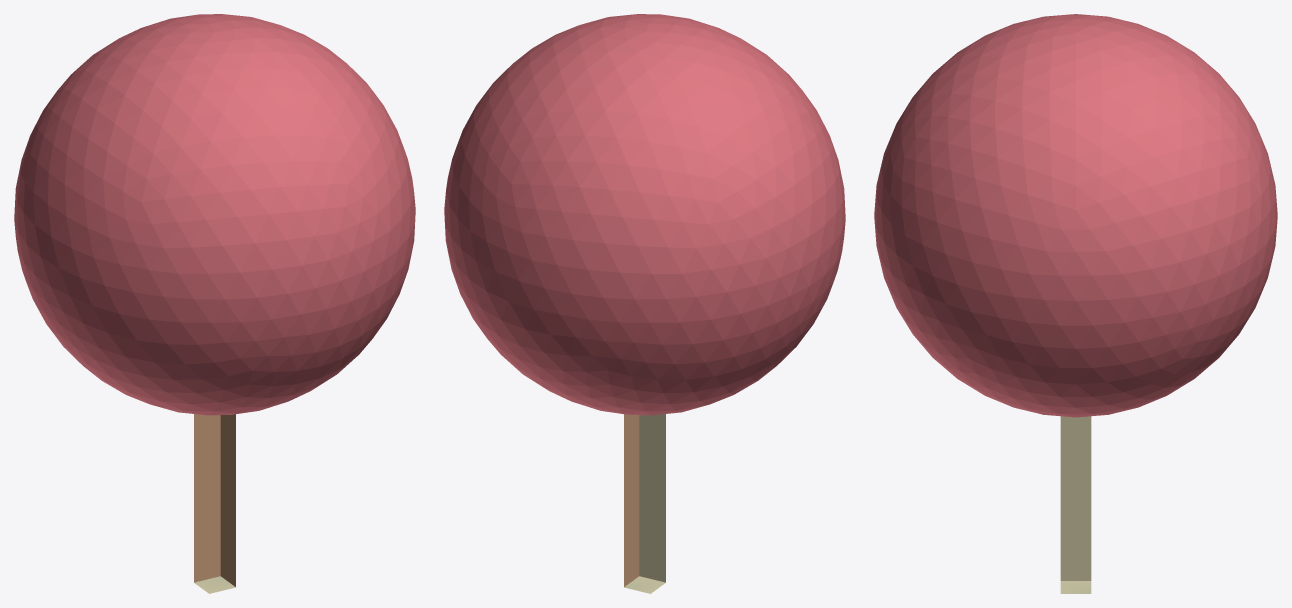
The model's file is _tree.glb.
The picture shows the model from 3 angles, left to right: view 1: azimuth 30°, elevation 25°; view 2: azimuth 150°, elevation 25°; view 3: azimuth 270°, elevation 25°; orthographic projection.
Visible parts, largest first — view 1: Cube.011; view 2: Cube.011; view 3: Cube.011.
Boxes of the visible parts, <box> form: Cube.011: <box>14,14,415,593</box>; Cube.011: <box>444,14,845,593</box>; Cube.011: <box>874,14,1277,593</box>.
Bounding box in the file's own units: 0.8648 × 1.31 × 0.8648.
